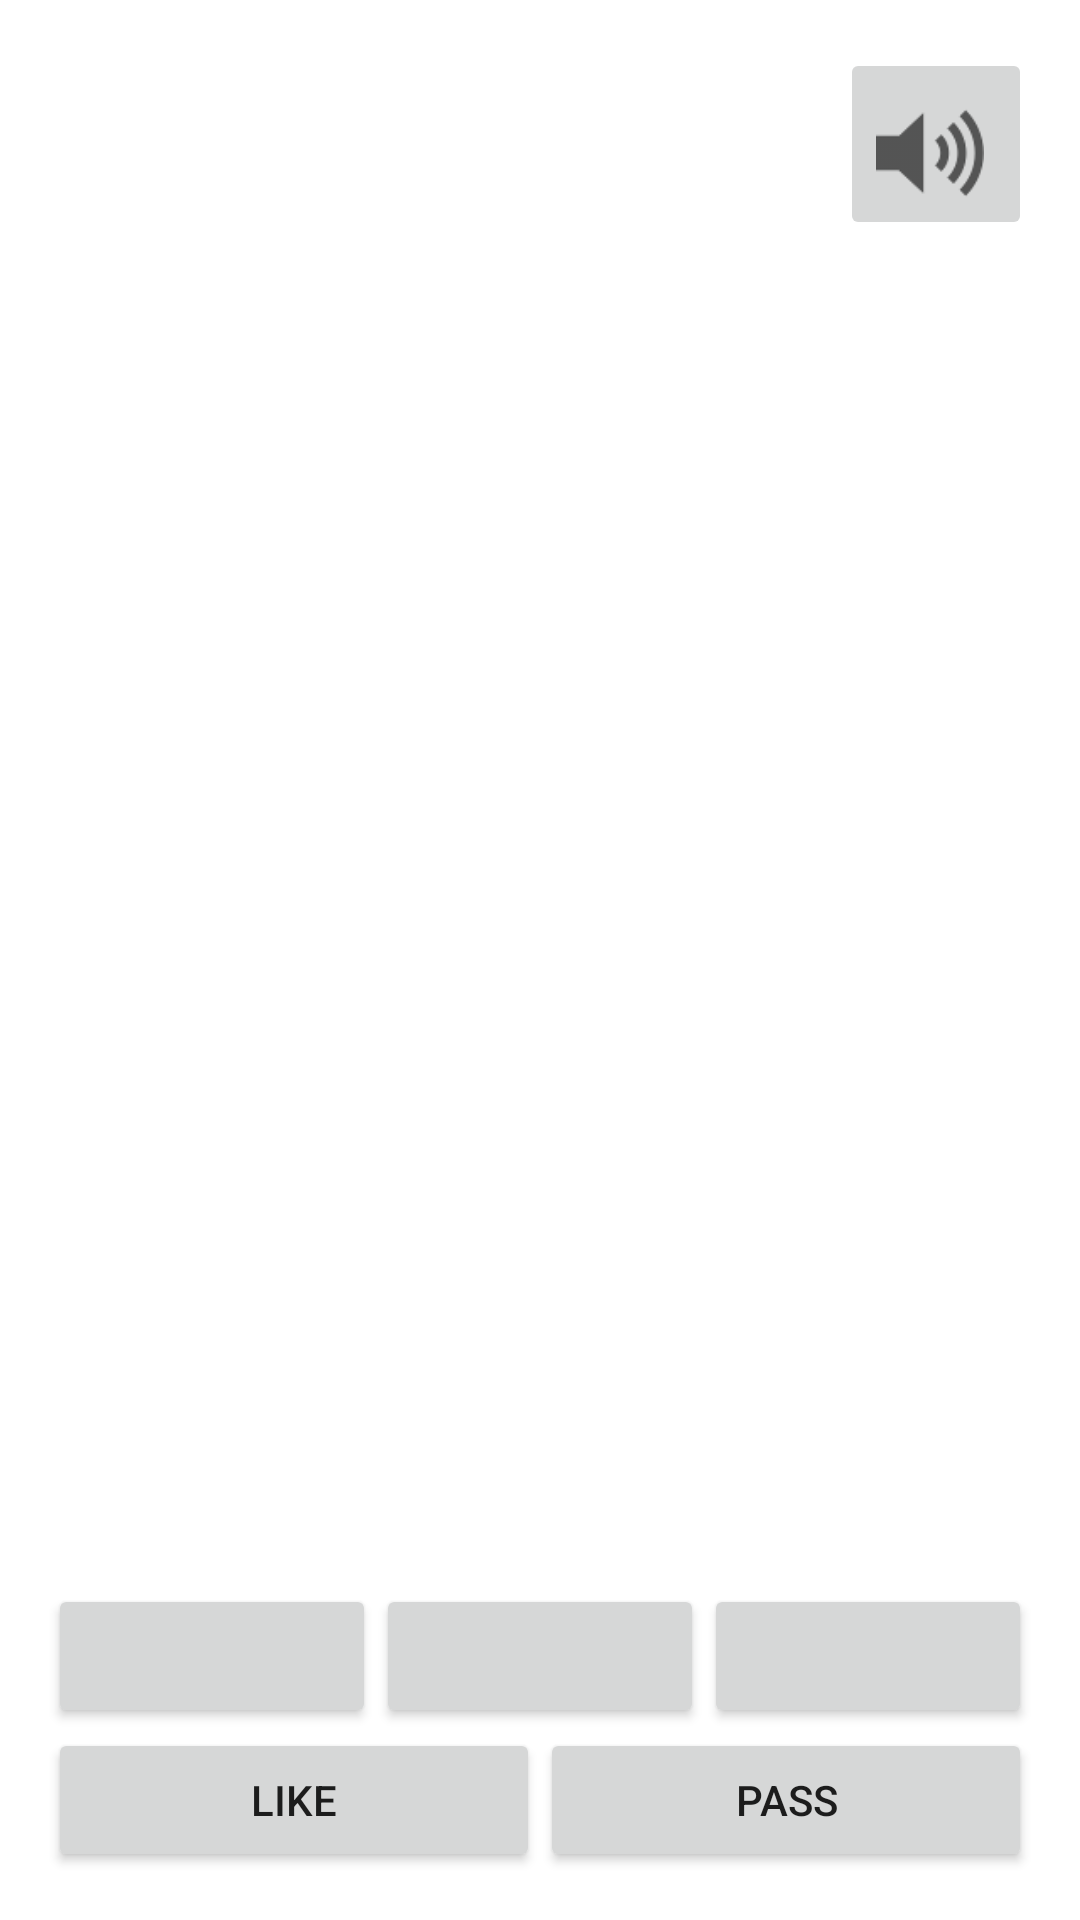

Screen size 1080 x 1920. Icon name, then its box in pixels as {"x1": x1, "y1": y1, "x2": x2, "y2": y2}:
speaker: {"x1": 852, "y1": 66, "x2": 1020, "y2": 222}
